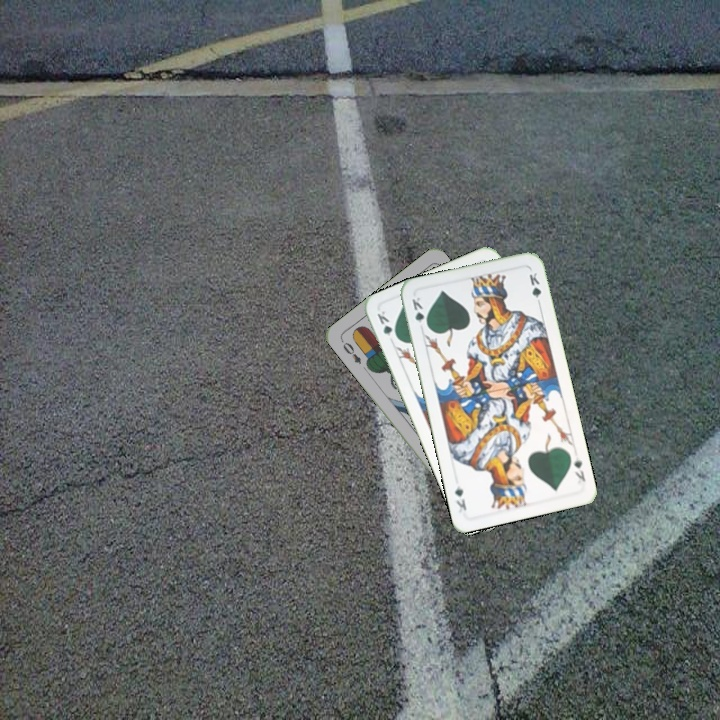EO: (337, 336, 364, 367)
GK: (373, 307, 401, 346), (408, 293, 431, 331), (570, 453, 588, 484)
